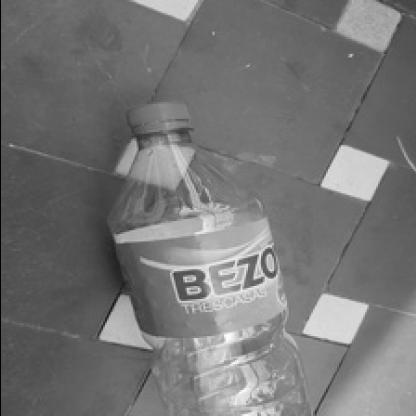plastic_bottles: (99, 94, 314, 416)
